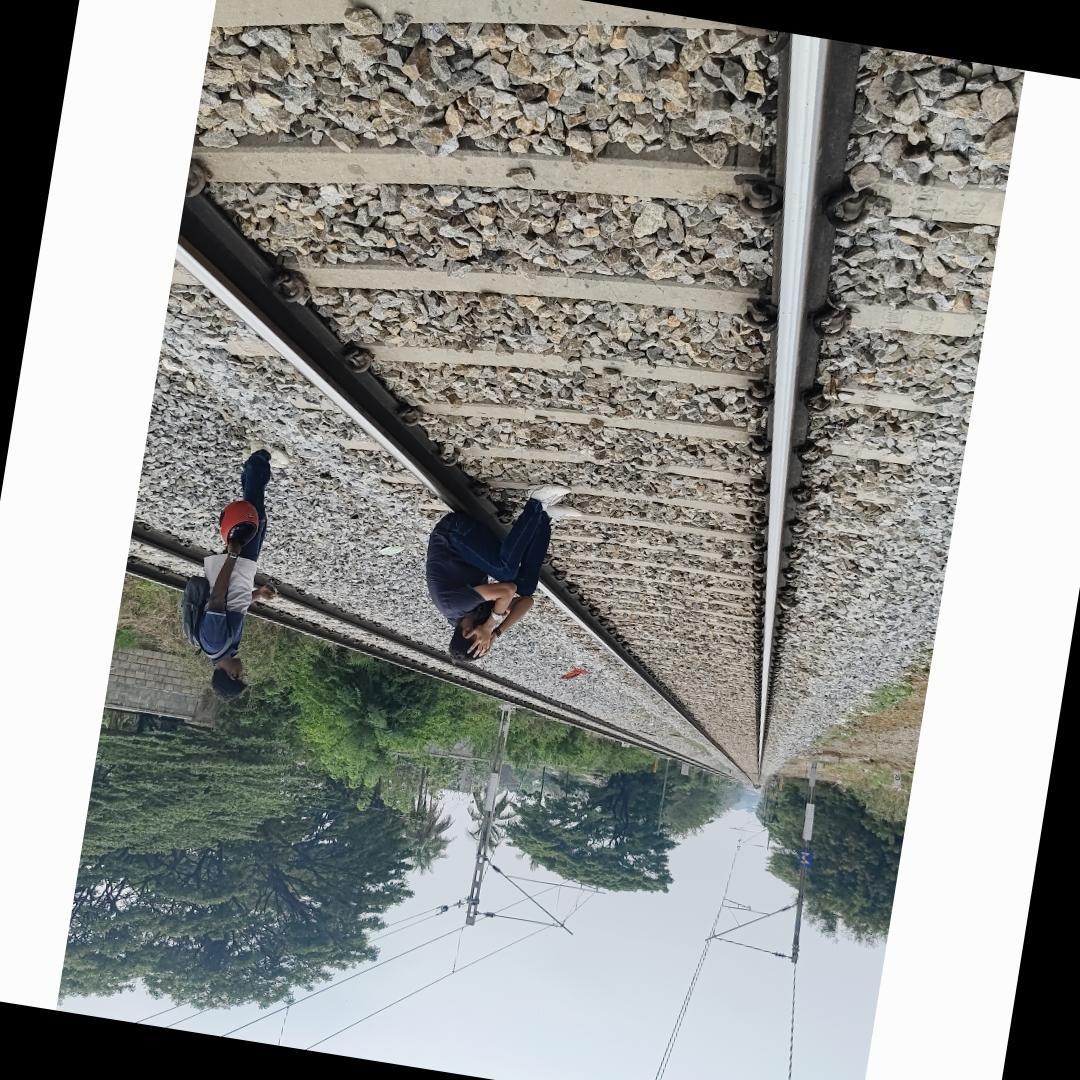sitting: (409, 464, 586, 678)
standing: (172, 434, 302, 706)
track: (165, 0, 907, 787)
